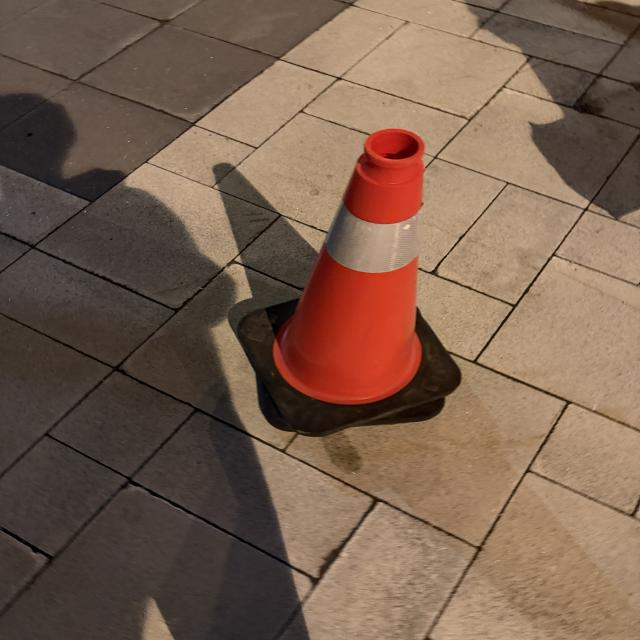Traffic Cone: (235, 128, 464, 438)
